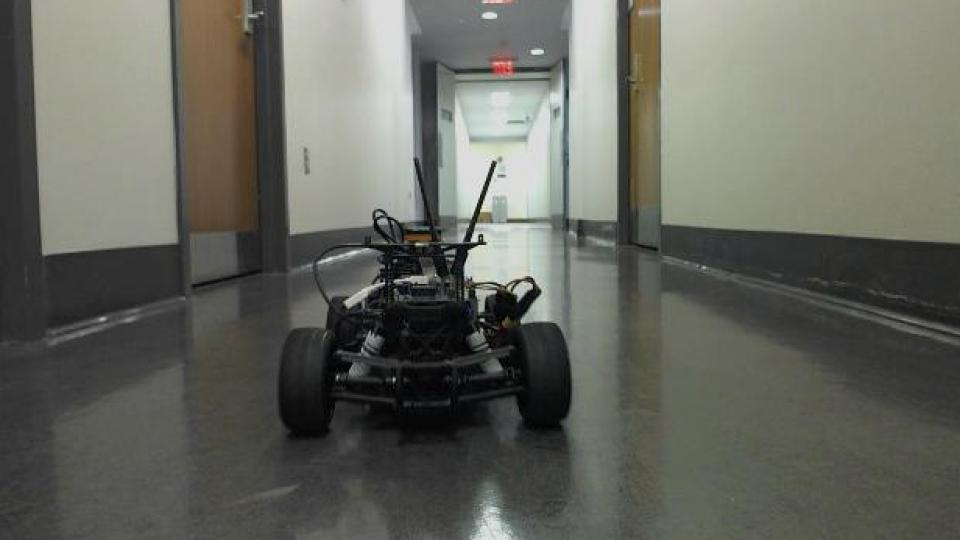car: (273, 154, 575, 438)
